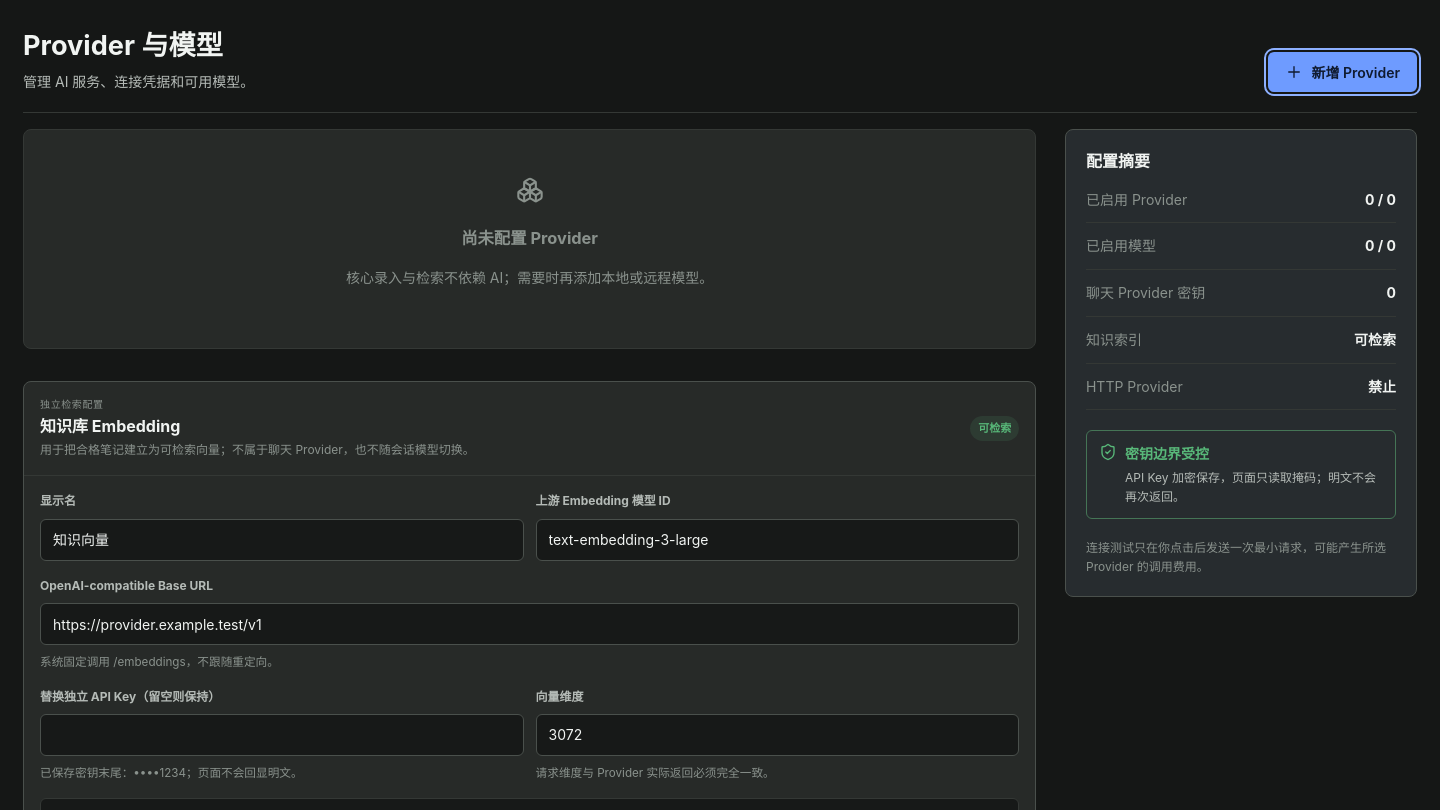
Test: SettingsDrawers keyboard: composing Escape must not close drawers › provider create drawer keeps the draft through composing Escape and closes only on plain Escape
Click the button "新增 Provider" at (1343, 72), box x1=1268 y1=52 x2=1417 y2=92
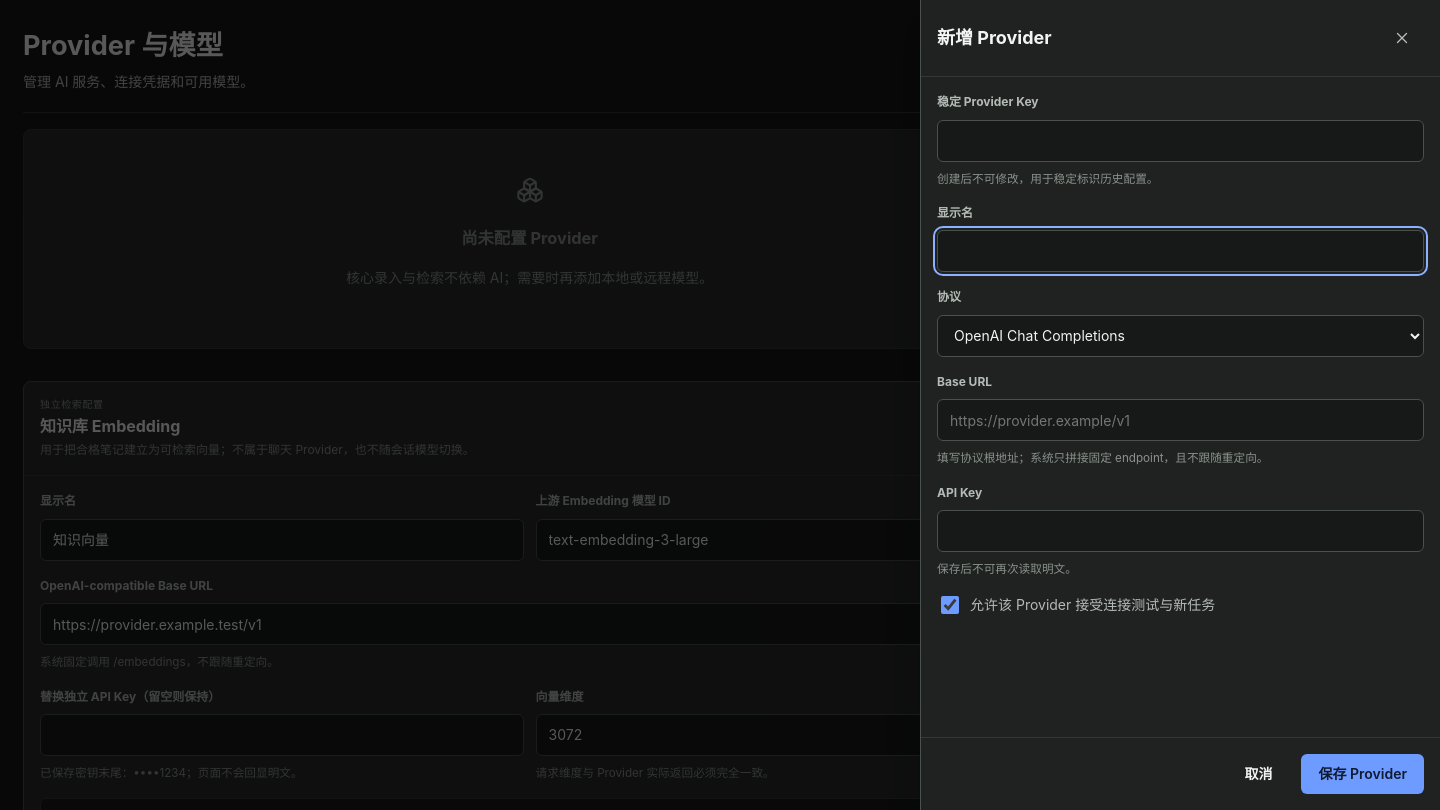
Type "合成显示名草稿" into the field labelled "显示名" at (1180, 251), box x1=937 y1=230 x2=1424 y2=272
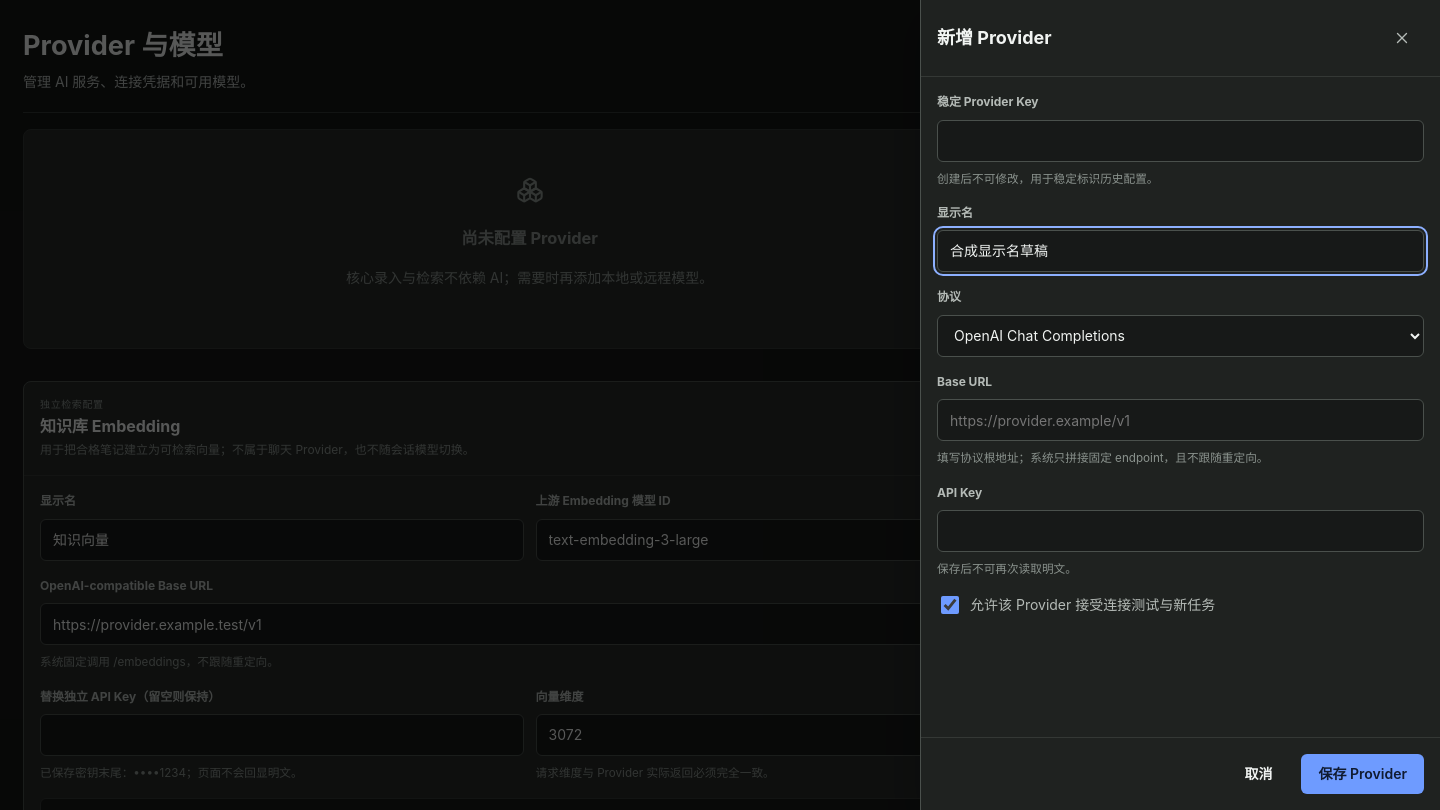
Press Escape in the field labelled "显示名", box x1=937 y1=230 x2=1424 y2=272
Press Escape in the field labelled "显示名", box x1=937 y1=230 x2=1424 y2=272
Press Escape in the field labelled "显示名", box x1=937 y1=230 x2=1424 y2=272
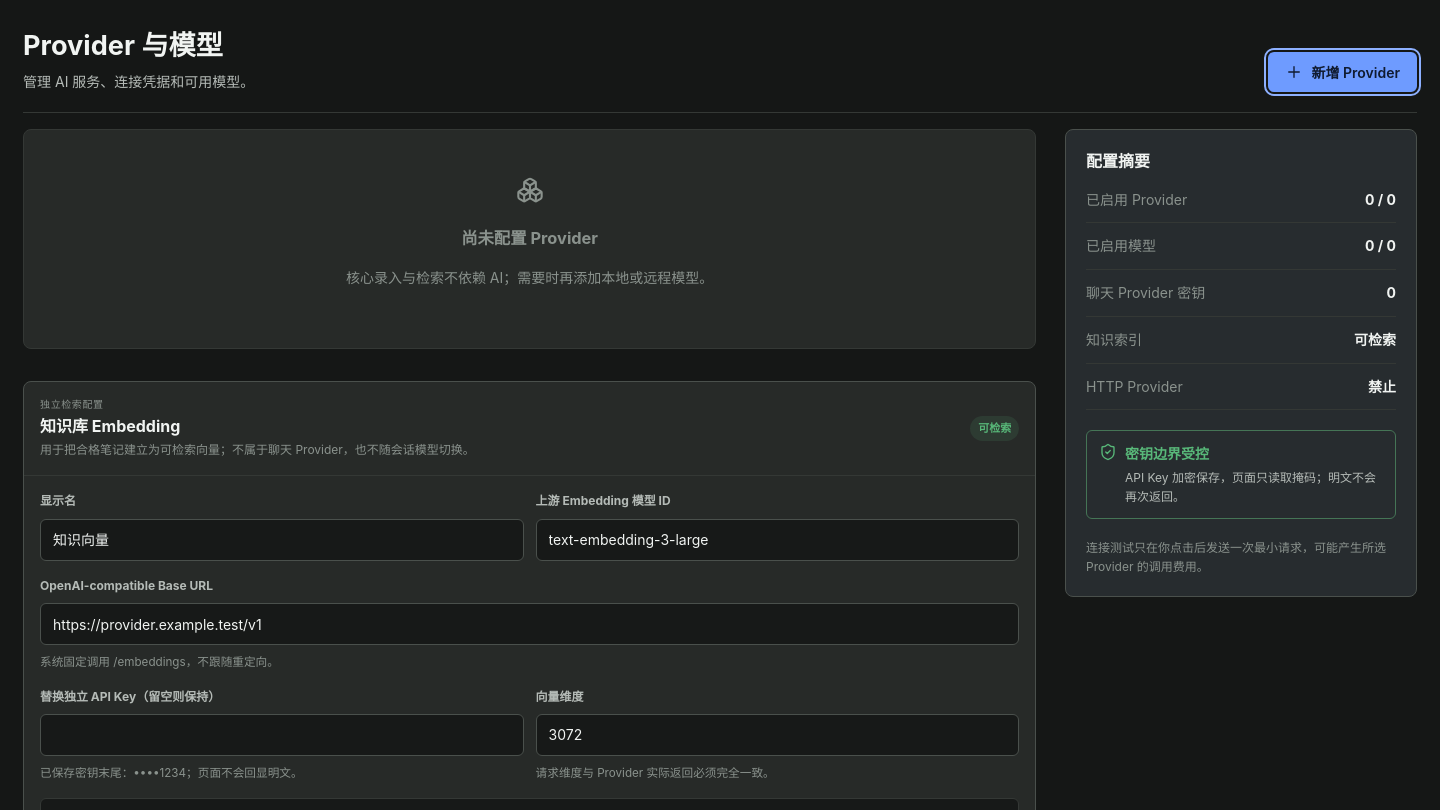
Expected: the dialog is gone
